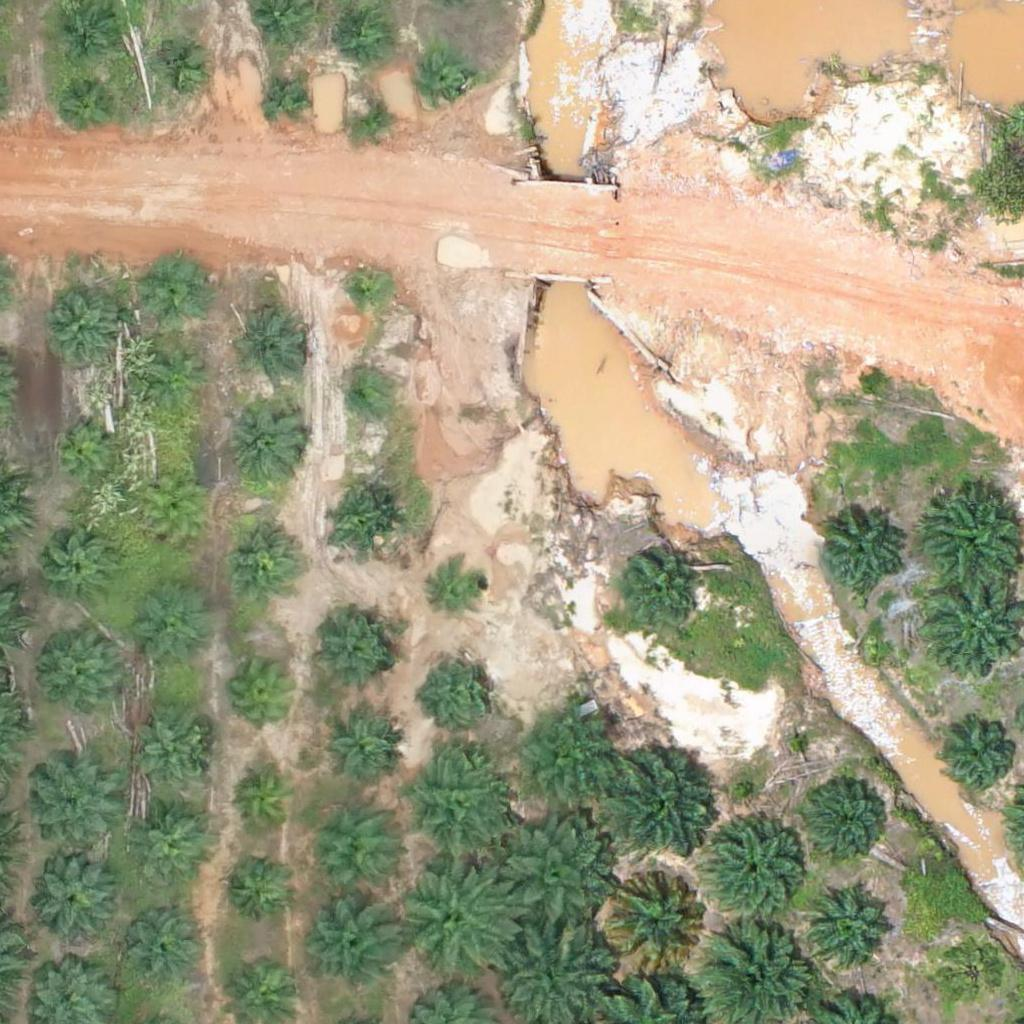Kelapa_Sawit: (394, 851, 519, 977), (597, 736, 722, 862), (486, 816, 611, 941), (599, 865, 712, 978), (511, 699, 623, 813), (700, 815, 812, 929), (401, 751, 513, 864), (922, 485, 1022, 586), (300, 807, 400, 907), (314, 612, 402, 700), (126, 805, 214, 893), (32, 762, 120, 850), (29, 851, 117, 939), (817, 510, 905, 598), (38, 631, 125, 720), (318, 709, 405, 797), (616, 551, 703, 639), (935, 710, 1022, 798), (309, 897, 396, 985), (125, 713, 212, 801), (117, 907, 204, 995), (41, 284, 128, 372), (809, 880, 896, 968), (804, 775, 891, 863), (231, 306, 306, 382), (322, 487, 397, 563), (220, 851, 295, 927), (226, 763, 301, 839), (424, 650, 499, 726), (231, 403, 306, 479), (935, 933, 1010, 1009), (39, 530, 114, 605), (136, 594, 211, 669), (223, 521, 298, 596), (229, 654, 304, 729), (55, 75, 118, 138), (144, 256, 207, 319), (335, 2, 398, 65), (140, 478, 203, 541), (150, 352, 212, 415), (150, 37, 212, 100), (429, 559, 491, 622), (49, 418, 111, 480), (262, 72, 312, 123), (348, 93, 398, 144), (419, 59, 469, 109), (341, 267, 391, 317), (337, 374, 387, 424)
